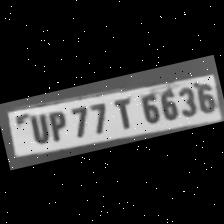3: (172, 81, 198, 118)
6: (132, 88, 162, 126), (191, 76, 218, 114), (155, 86, 180, 122)
7: (82, 97, 113, 136), (64, 102, 92, 138)
P: (42, 106, 70, 142)
T: (106, 92, 138, 131)
U: (22, 108, 52, 146)
